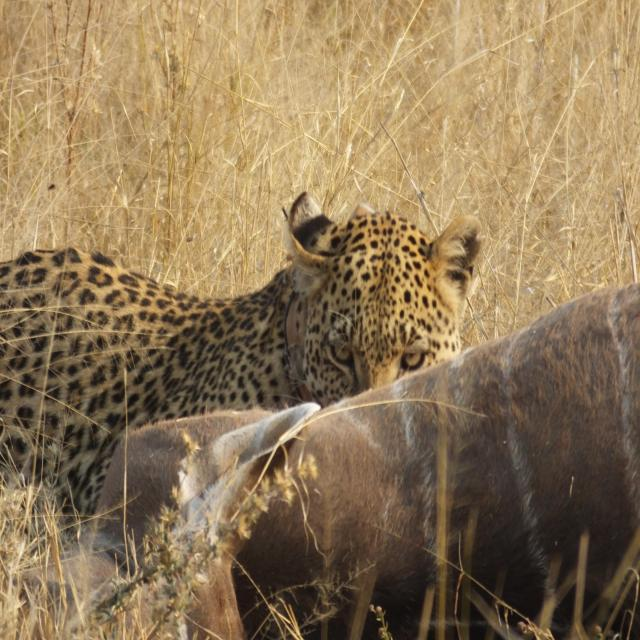Leopard: (0, 192, 482, 535)
